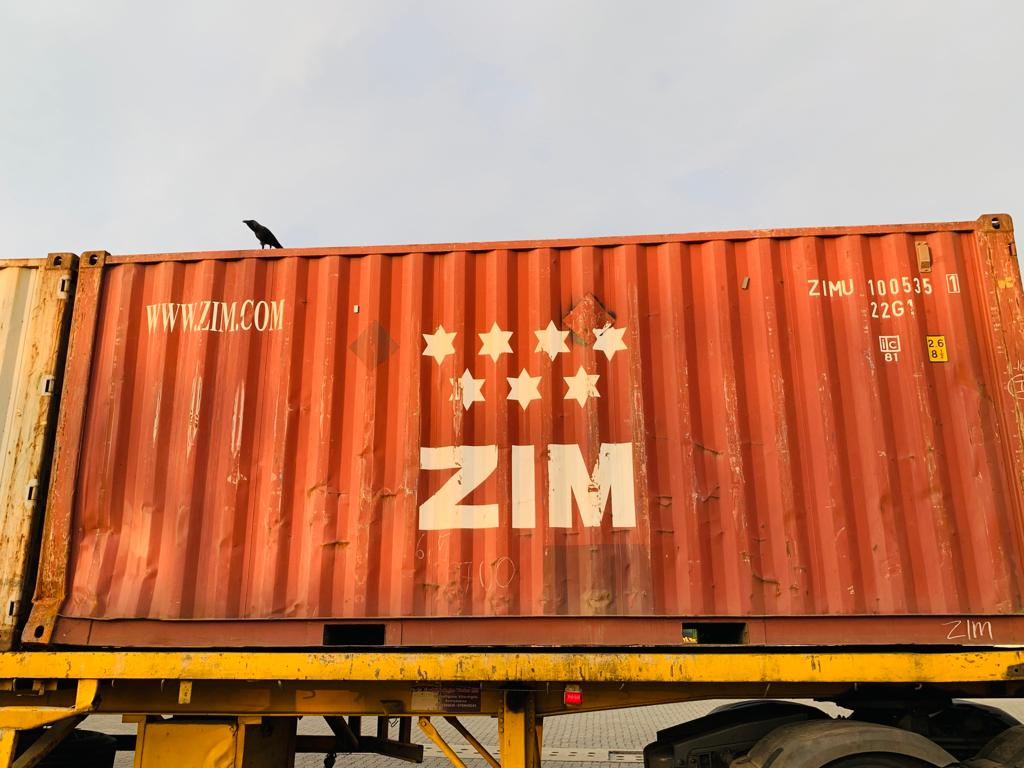dented: (76, 509, 154, 587), (870, 481, 969, 527), (301, 472, 413, 507), (304, 528, 355, 550), (776, 503, 814, 528)
